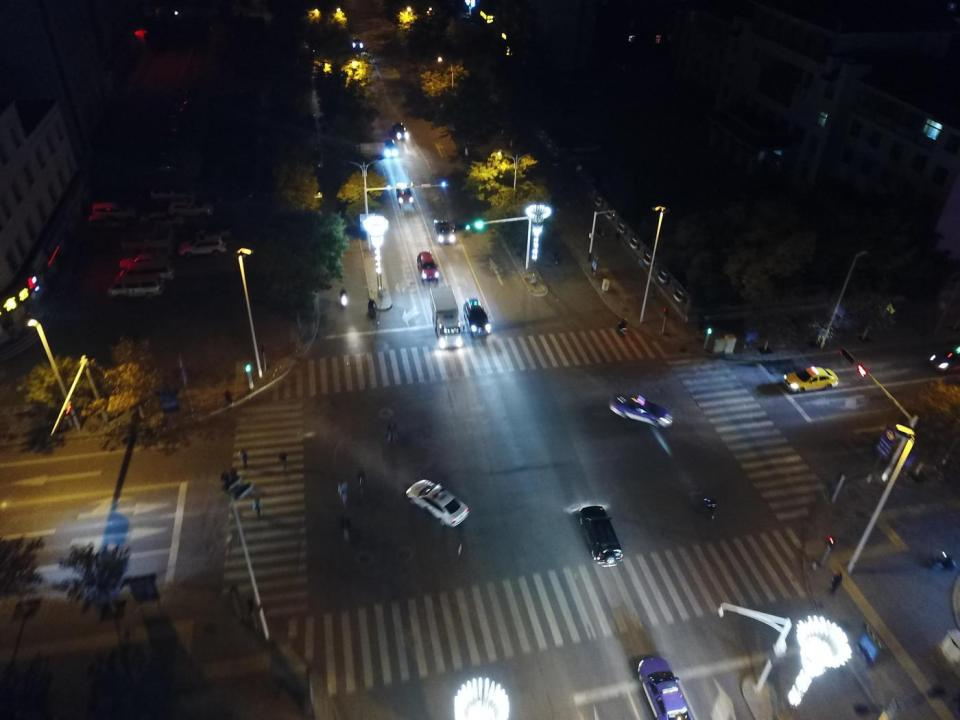car: (637, 657, 692, 720), (405, 479, 469, 527), (579, 505, 623, 567), (609, 394, 673, 430), (785, 366, 838, 393), (108, 274, 162, 299), (120, 261, 175, 283), (178, 235, 226, 256), (464, 298, 490, 336), (123, 253, 173, 272), (928, 344, 959, 374), (125, 236, 171, 256), (92, 202, 136, 222), (169, 200, 213, 218), (151, 186, 194, 204), (140, 211, 184, 226), (417, 251, 438, 280), (434, 219, 455, 245), (192, 228, 230, 241), (396, 184, 414, 204), (382, 139, 399, 158), (392, 122, 408, 139), (350, 36, 365, 49)
truck: (430, 286, 461, 349)
